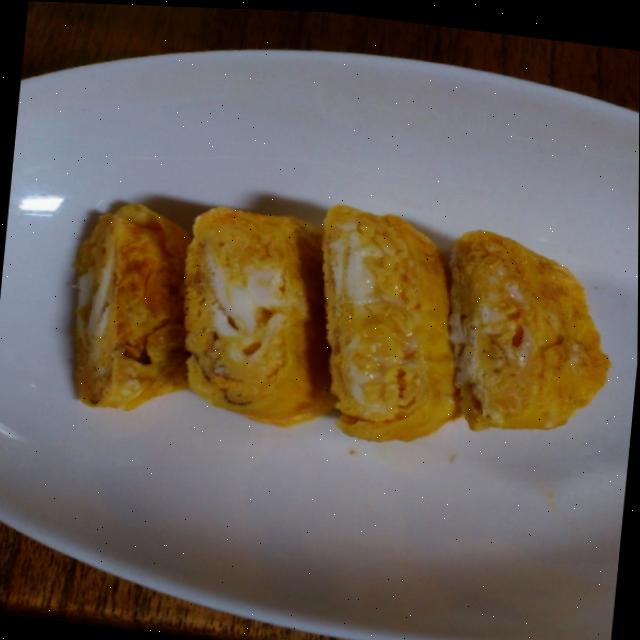鸡蛋料理: (47, 165, 628, 471)
